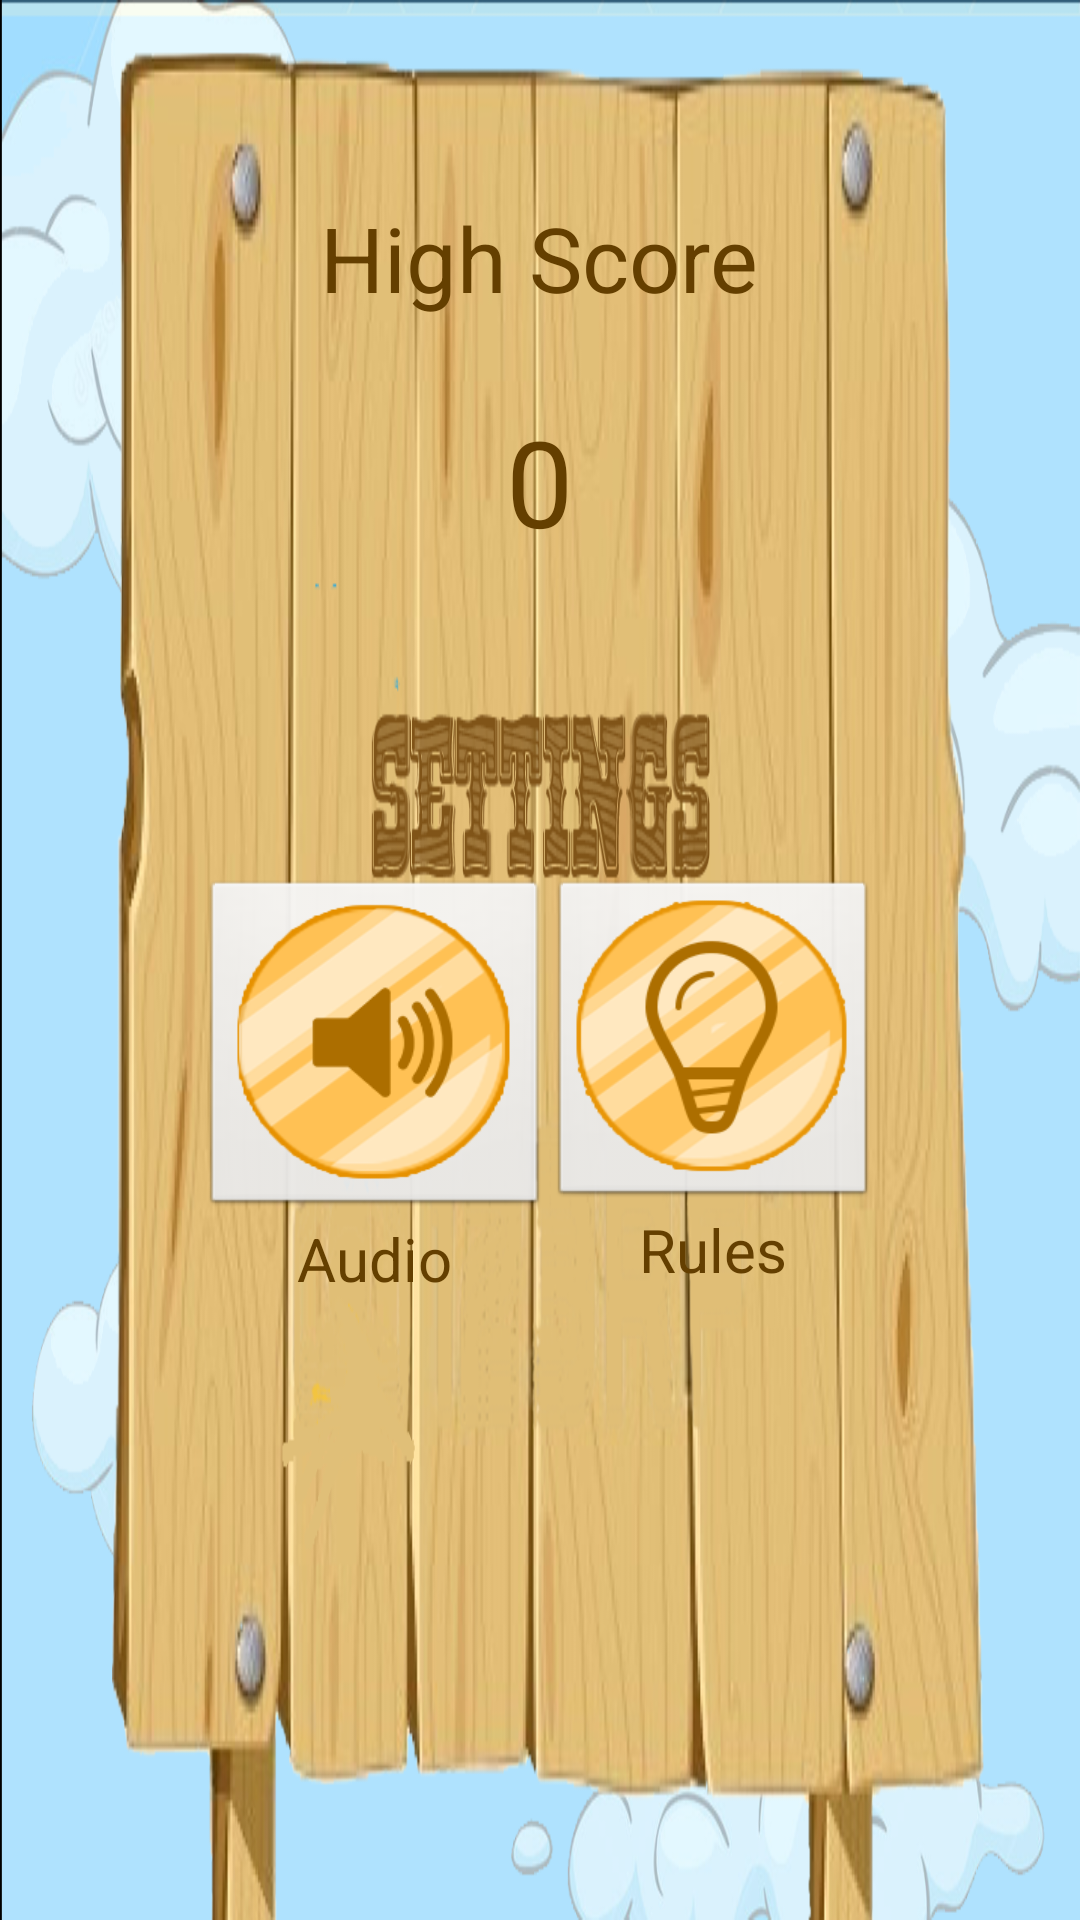

Where to tap for icons on this 1080px x 1920px app screen, as point (x, y):
music on: point (379, 1048)
